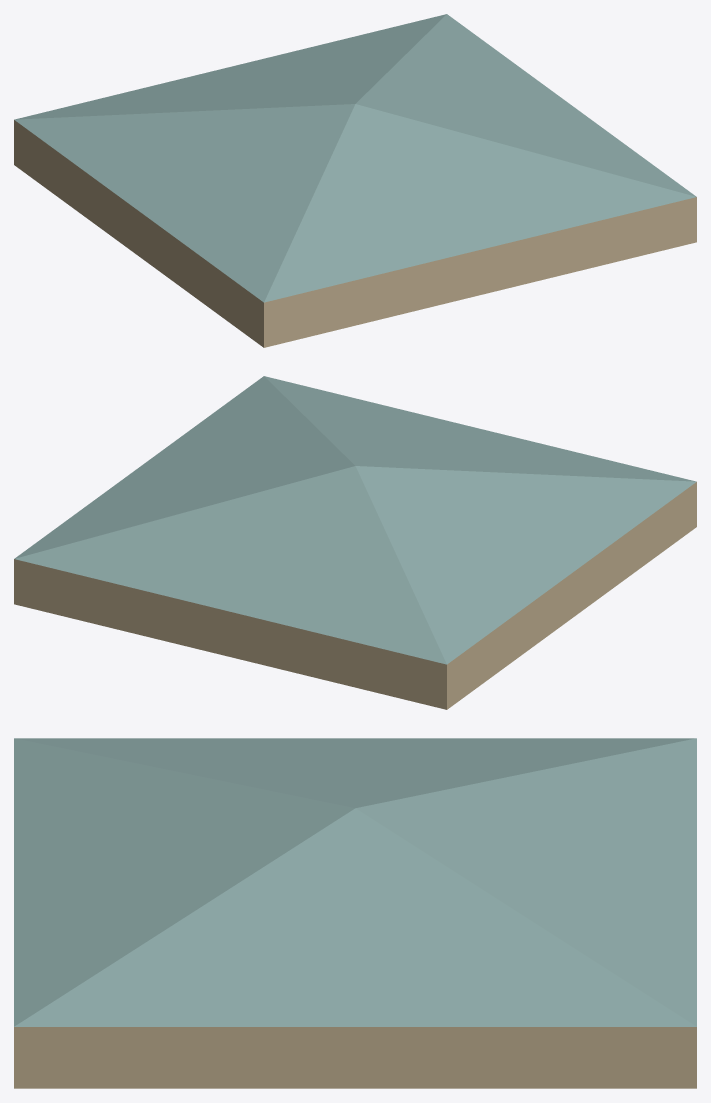
The model's file is naturePack_004.gltf.
3 views of the same model, one above another, from view 1: azimuth 30°, elevation 25°; view 2: azimuth 150°, elevation 25°; view 3: azimuth 270°, elevation 25° (orthographic). The views are drawn at different scales.
Parts seen in each view (by area): view 1: Mesh1 Plate_Grass Model; view 2: Mesh1 Plate_Grass Model; view 3: Mesh1 Plate_Grass Model.
Boxes of the visible parts, bbox=[...] form: Mesh1 Plate_Grass Model: bbox=[14, 14, 696, 347]; Mesh1 Plate_Grass Model: bbox=[14, 376, 696, 709]; Mesh1 Plate_Grass Model: bbox=[14, 738, 696, 1088].
Bounding box in the file's own units: 3 × 0.66 × 3.
